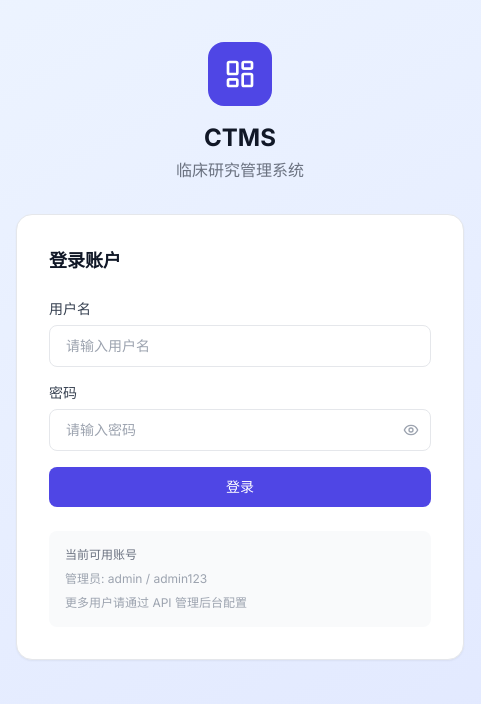
Scenario: LoginPage › shows error message on failed login
The image size is (481, 704).
Type "wrong" into the field with placeholder "请输入用户名" at (240, 346), box [49,325,431,367]
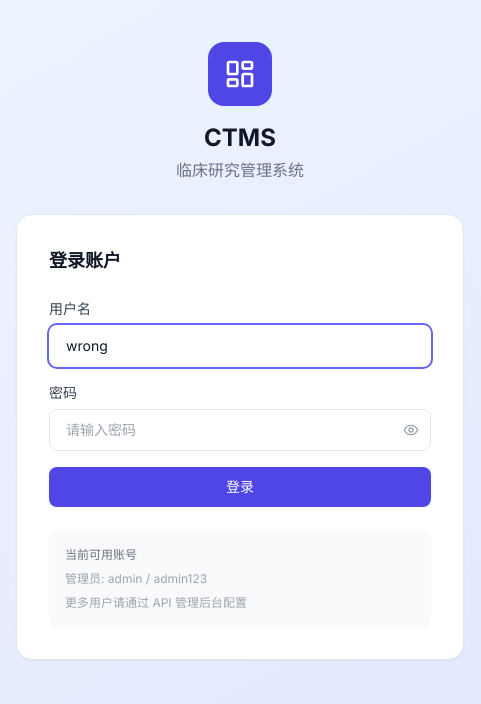
Type "wrong" into the password field with placeholder "请输入密码" at (240, 430), box [49,409,431,451]
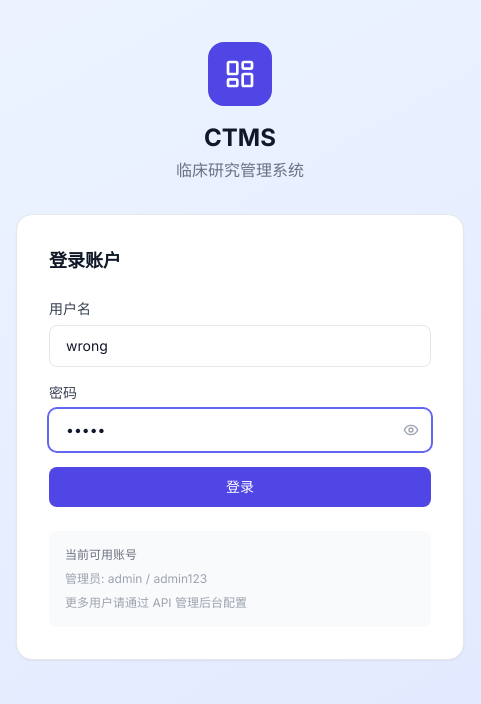
Click the button "登录" at (240, 487), box [49,467,431,507]
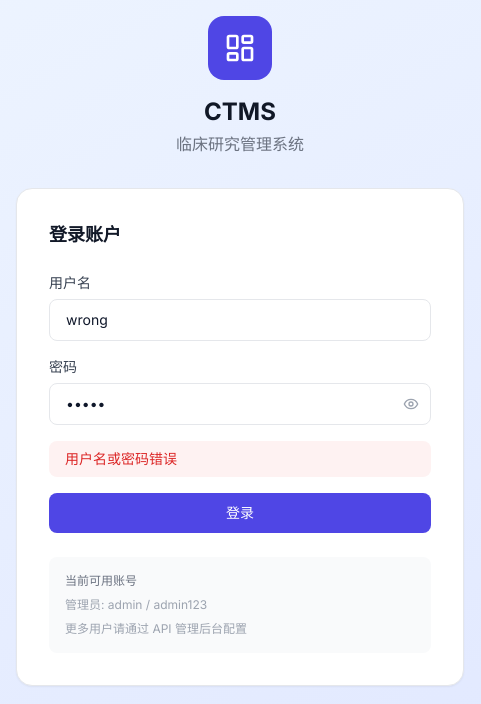
Now the text "用户名或密码错误" is shown, box [49,441,431,477]
